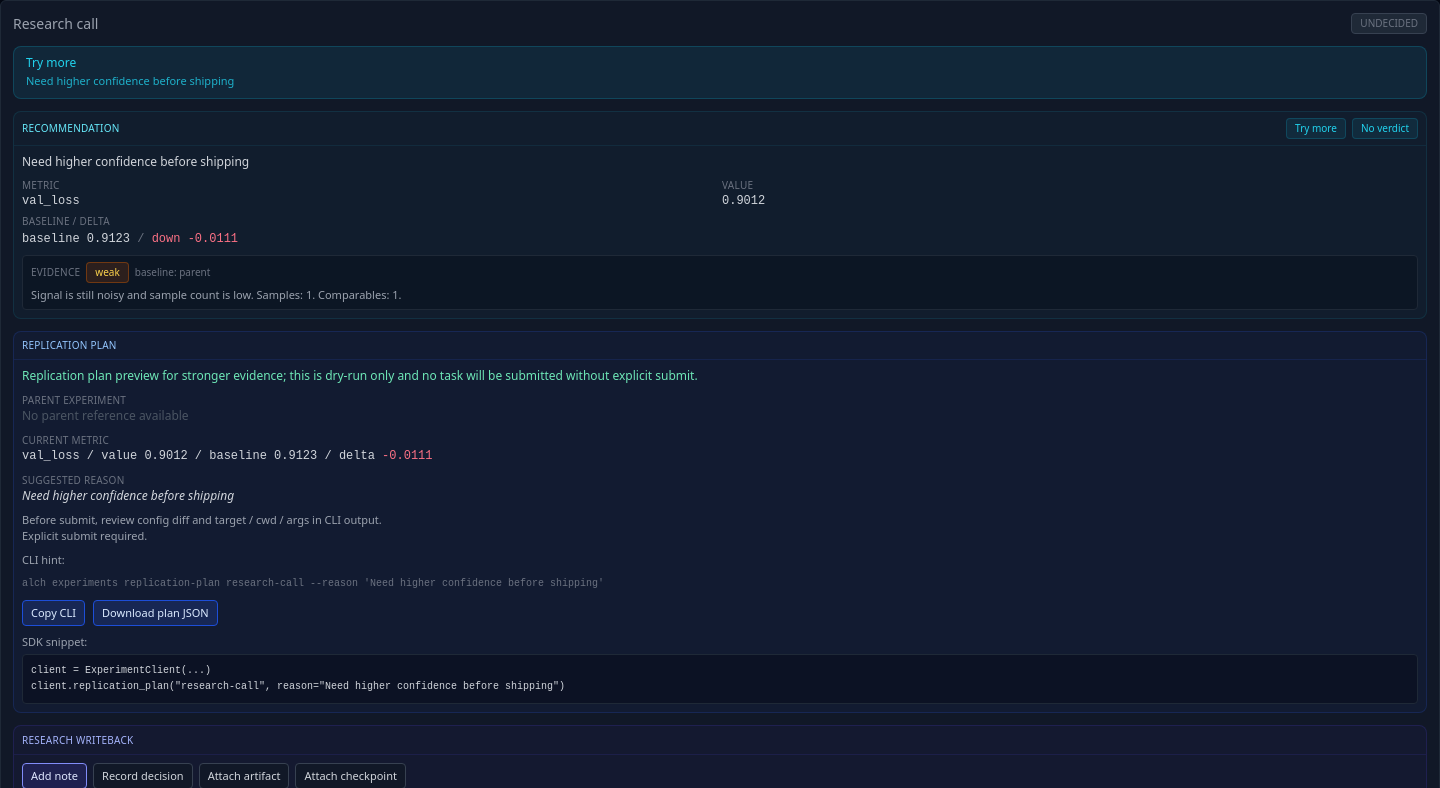
Scenario: ExperimentResearchCallCard › shows an error if copying CLI hint fails
The width and height of the screenshot is (1440, 788).
Click the button with aria-label "copy replication plan cli": [54, 613] box top-left (22, 600), bottom-right (85, 626)
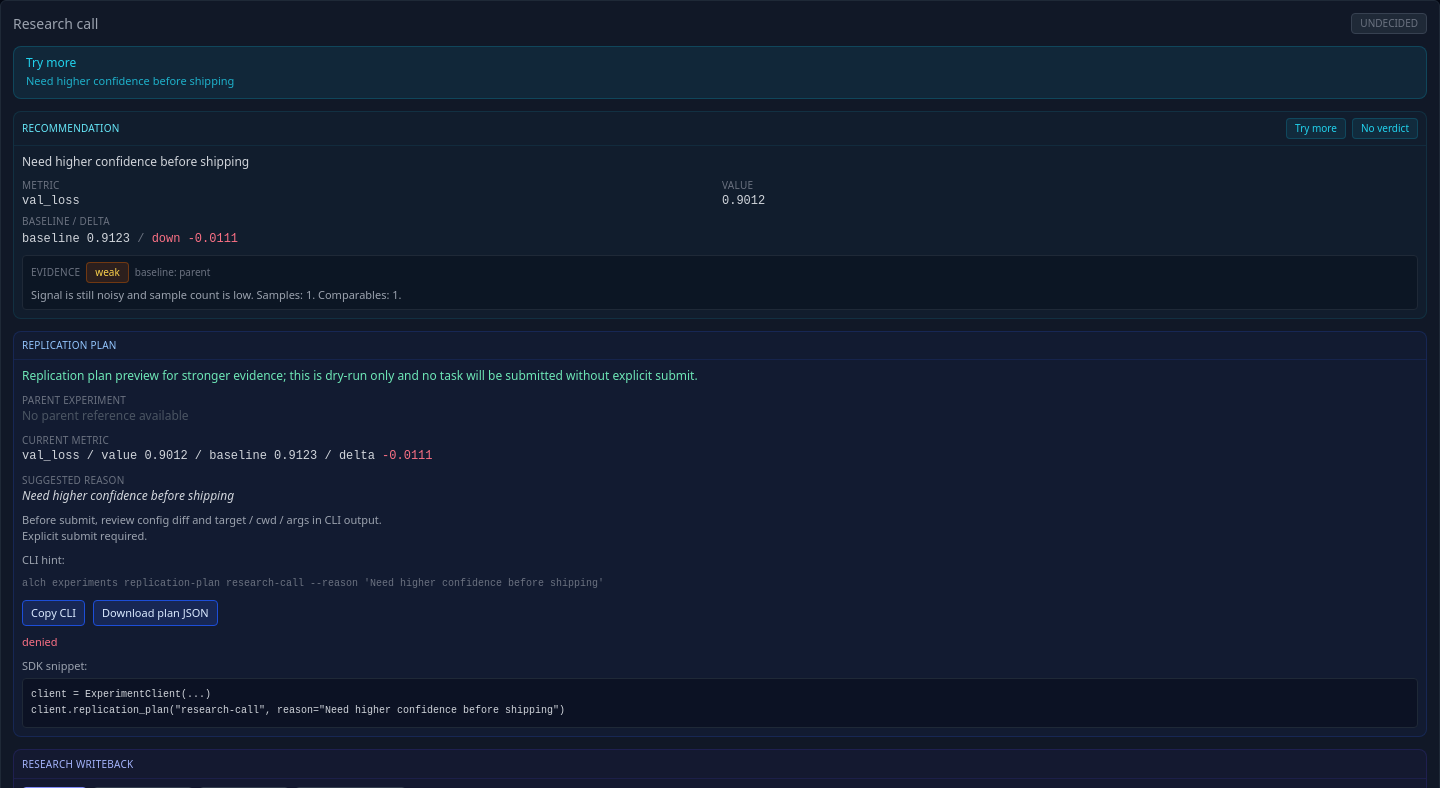
Now the text "denied" is shown, box top-left (22, 634), bottom-right (58, 649)
